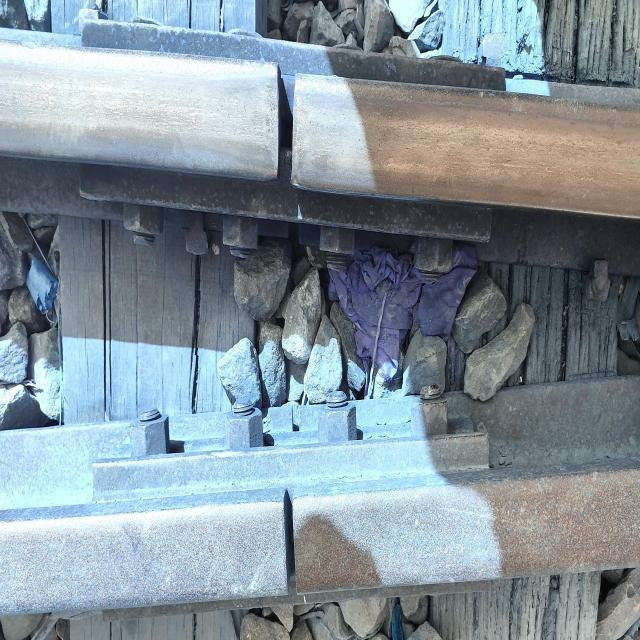Good Joint: (54, 358, 554, 635), (68, 5, 546, 287)
